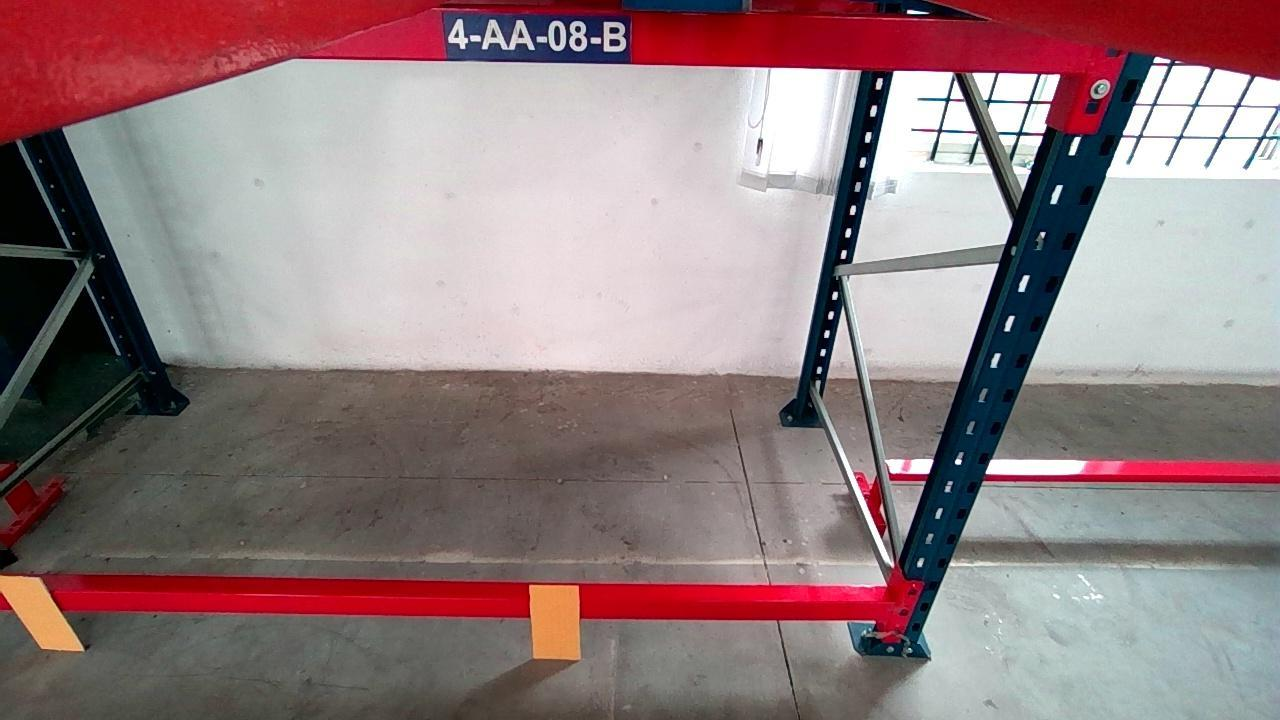h_rack: (319, 7, 1091, 75), (0, 589, 891, 618)
orange_strip: (0, 578, 85, 650), (529, 588, 578, 656)
